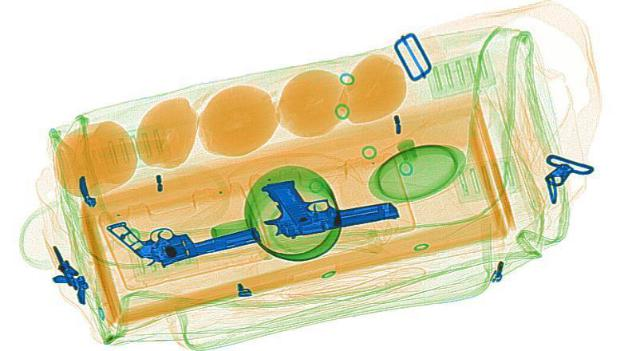Gun: (234, 164, 402, 239), (106, 193, 266, 268)
